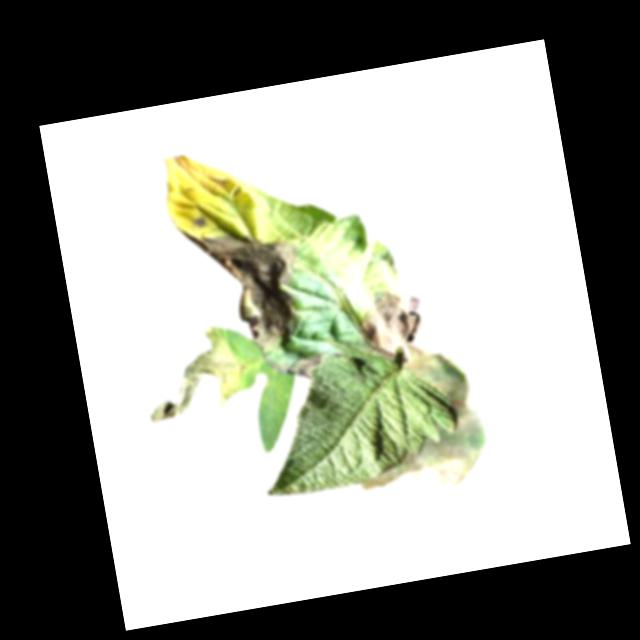Late_blight: (186, 220, 313, 361), (349, 404, 494, 501), (134, 321, 249, 424), (353, 282, 436, 367), (405, 346, 474, 413), (263, 349, 330, 385), (189, 215, 210, 229)
healthy: (245, 335, 466, 501)
